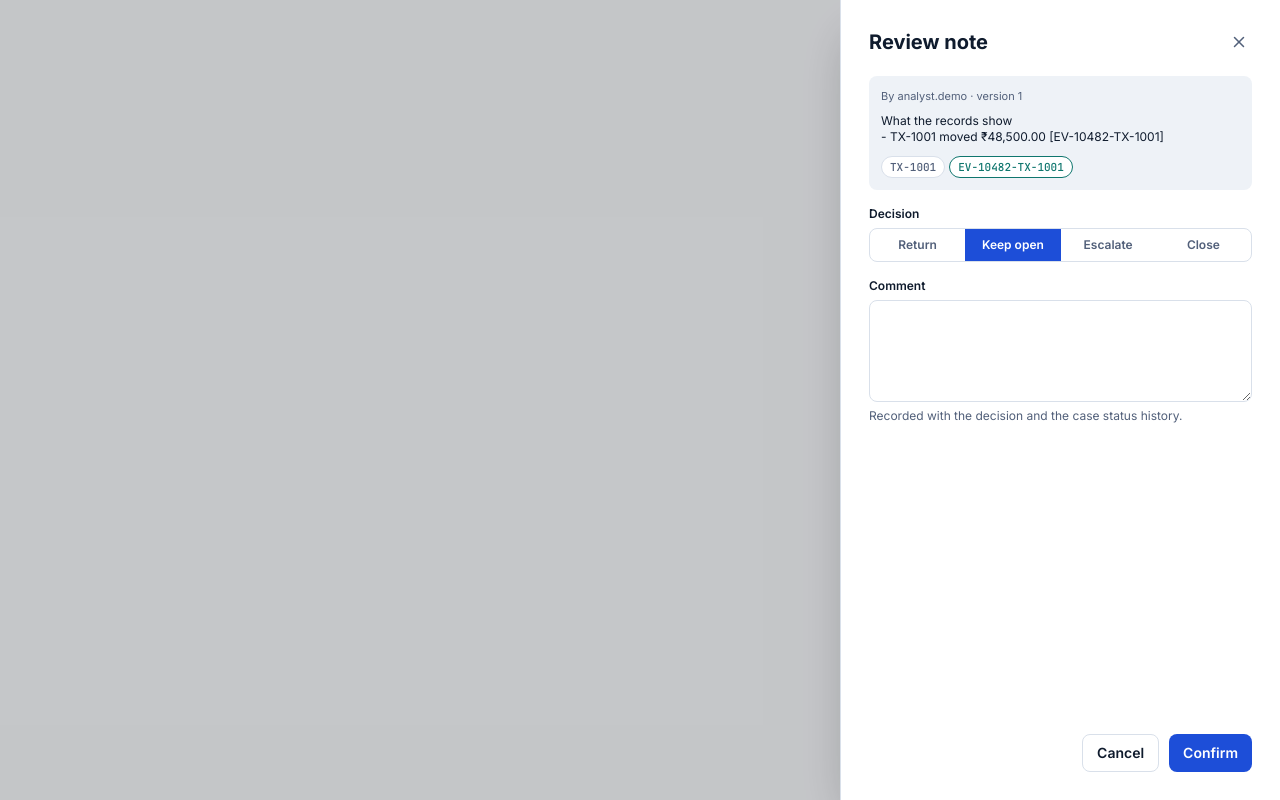
Test case: ReviewDrawer › return requires comment
Click the radio button labelled "Return" at (918, 245), box x1=870 y1=229 x2=965 y2=261
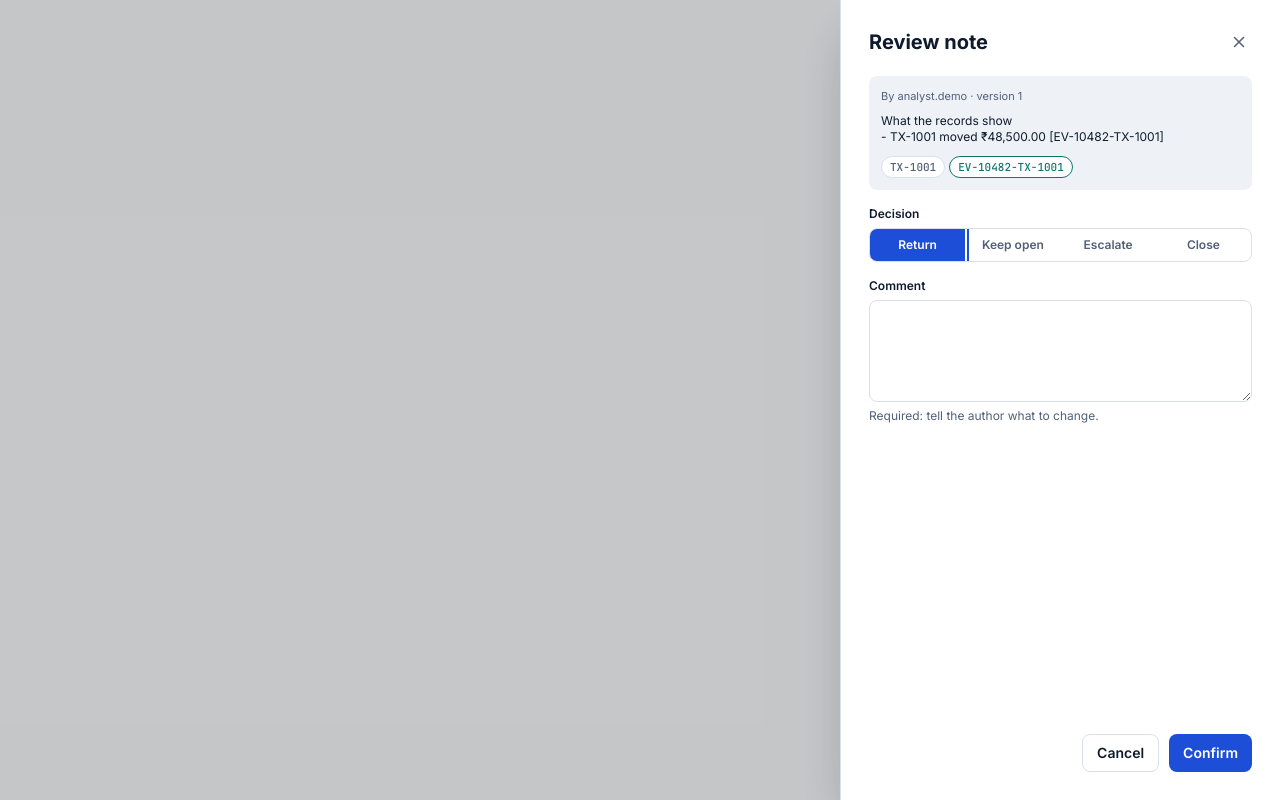
Click the button "Confirm" at (1211, 753), box x1=1169 y1=734 x2=1252 y2=772
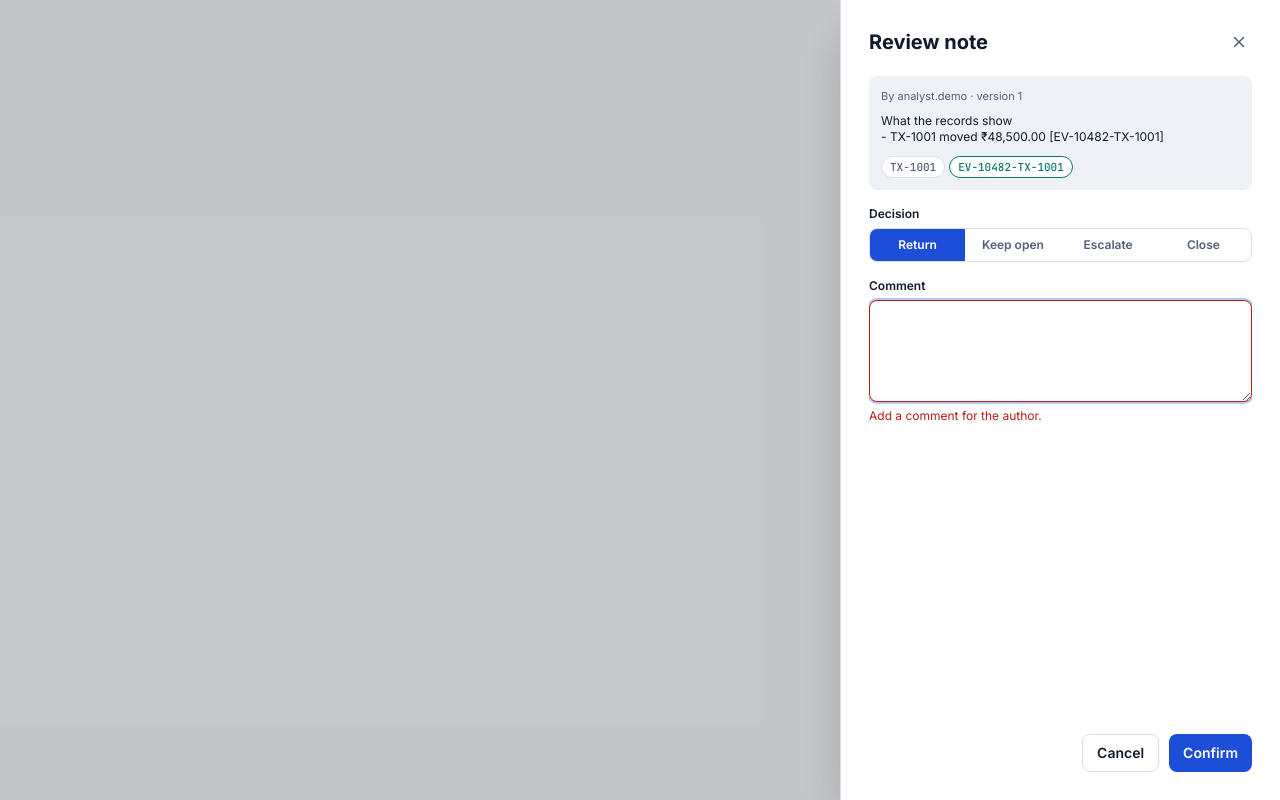
Expected: the text "Add a comment for the author." is shown, x1=869 y1=408 x2=1042 y2=423
